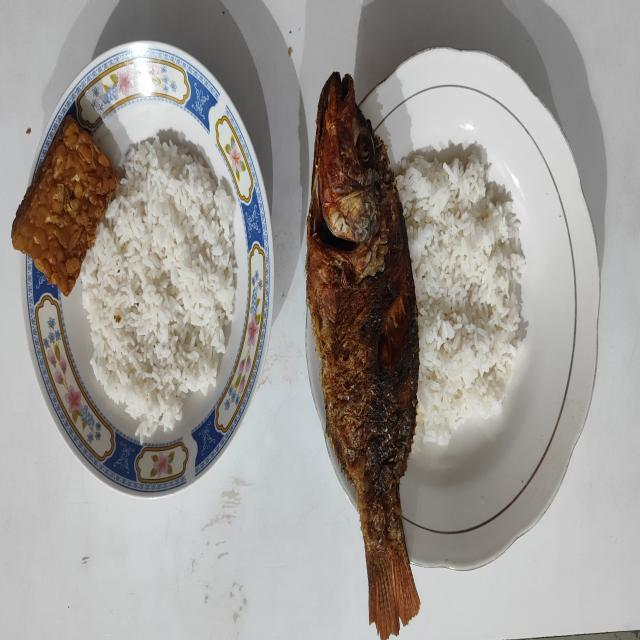ikan_mujair: (305, 72, 420, 640)
nasi_putih: (79, 138, 237, 436), (396, 144, 526, 444)
tempe_goreng: (12, 114, 118, 296)
